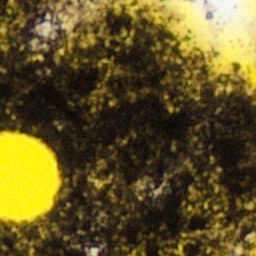air_pores: (0, 131, 61, 225)
cement_matrix: (0, 0, 255, 255), (37, 17, 56, 38), (230, 245, 244, 255), (90, 249, 94, 254), (71, 0, 78, 2)
cracks: (54, 0, 255, 93), (248, 234, 255, 255)
gravel_crushed_stones: (174, 0, 255, 43), (38, 18, 55, 37), (231, 246, 243, 254), (91, 250, 93, 253)
